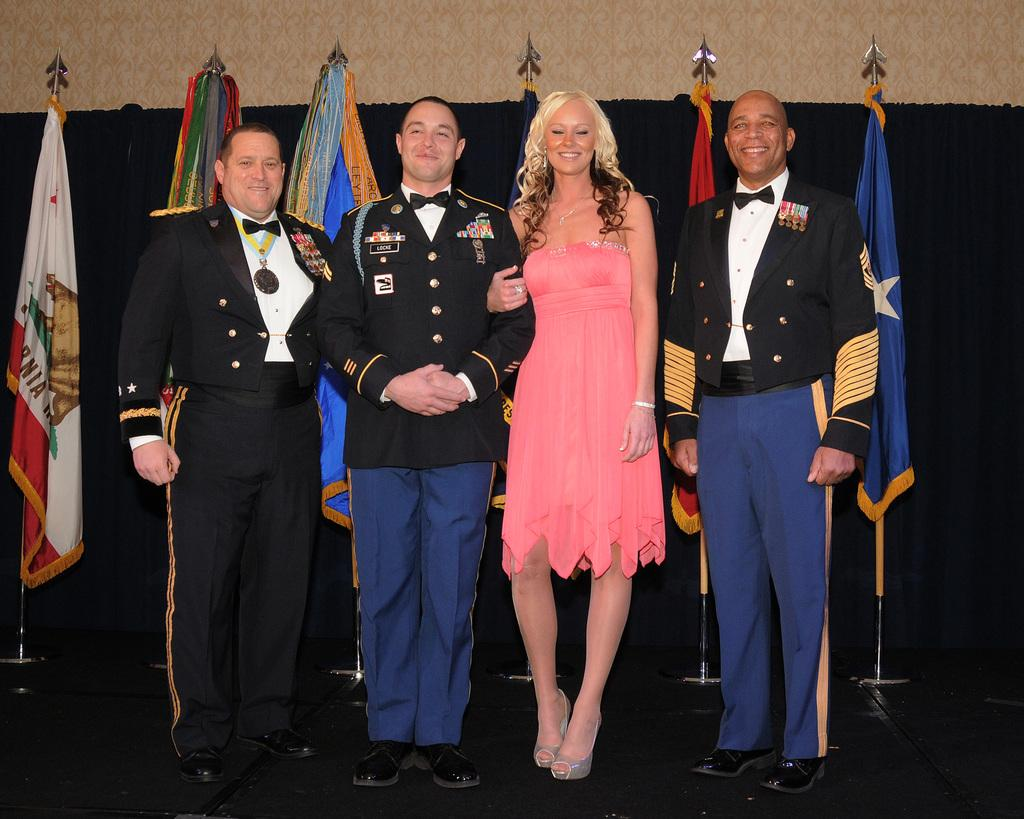no_helmet: (524, 146, 620, 208), (382, 146, 472, 212), (208, 170, 296, 234), (718, 150, 811, 196)
none: (132, 251, 334, 453), (326, 241, 508, 447), (669, 217, 863, 410), (511, 242, 650, 452)
